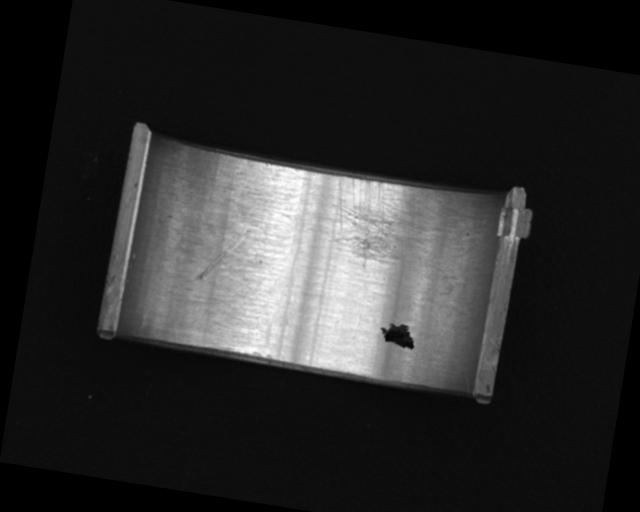blot: (376, 320, 418, 351)
nick: (194, 222, 248, 287)
scratch: (326, 170, 460, 281)
